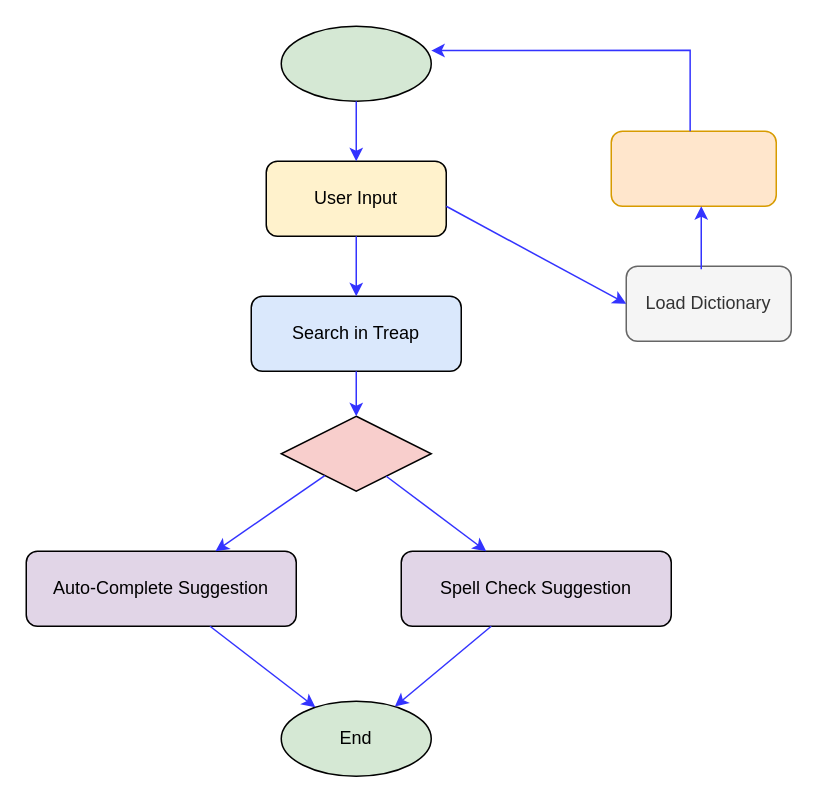
Image size: 818x803. Some labels were removed from this diagram. The centre of each missing label's shape, as x and y in pixels:
"Create New Heap" belongs at (693,168).
"Start" belongs at (355,63).
"Word Exists?" belongs at (355,453).
